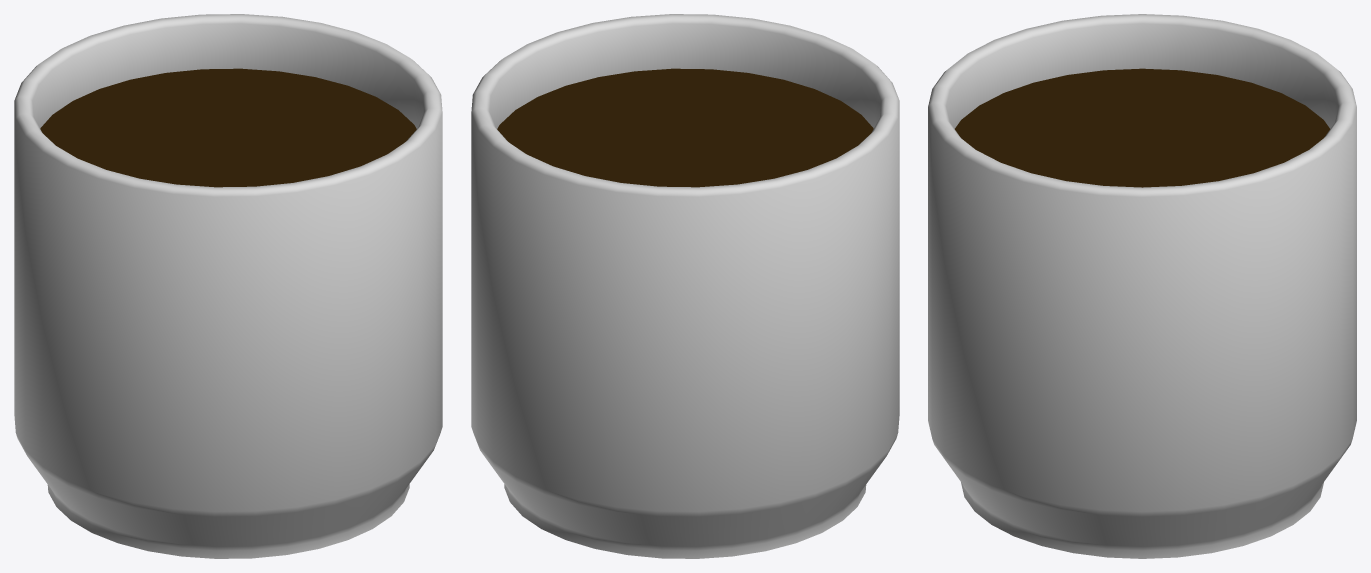
Rendered from Pot_Blue_Stripe.fbx.
3 renders of one model, left to right at view 1: azimuth 30°, elevation 25°; view 2: azimuth 150°, elevation 25°; view 3: azimuth 270°, elevation 25°, orthographic.
Parts seen in each view (by area): view 1: Pot_Blue_Stripe; view 2: Pot_Blue_Stripe; view 3: Pot_Blue_Stripe.
Boxes of the visible parts, <box> form: Pot_Blue_Stripe: <box>14,14,442,558</box>; Pot_Blue_Stripe: <box>471,14,899,558</box>; Pot_Blue_Stripe: <box>928,14,1356,558</box>.
Bounding box in the file's own units: 0.3005 × 0.3005 × 0.2934.
